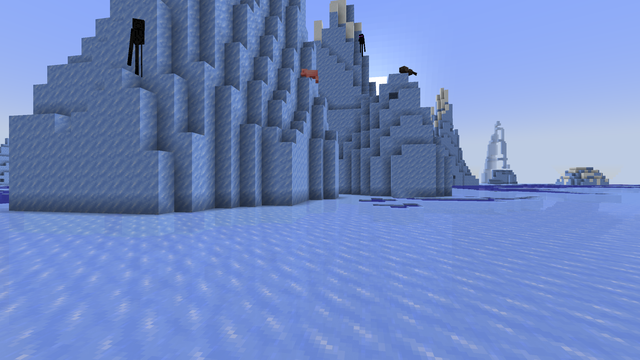araignees: (399, 65, 414, 78)
cochons: (305, 68, 317, 83)
endermens: (129, 15, 144, 75), (359, 32, 363, 56)
